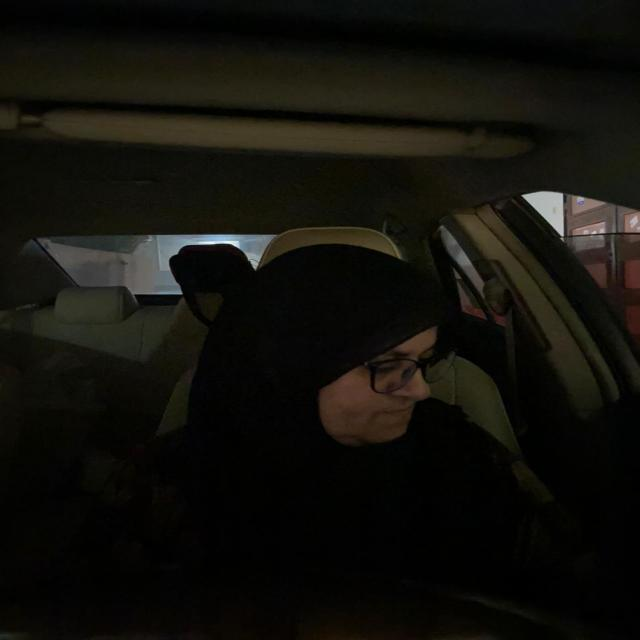drowsy: (220, 238, 448, 454)
